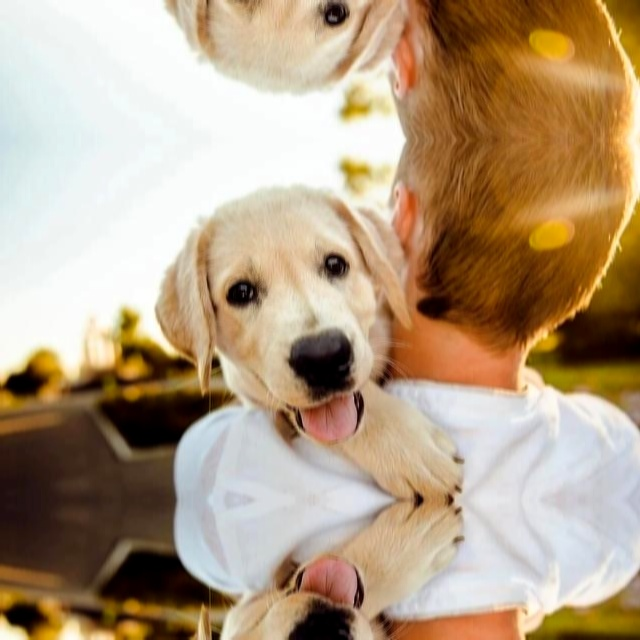dog: (143, 174, 405, 446), (143, 0, 404, 104), (143, 554, 404, 640)
